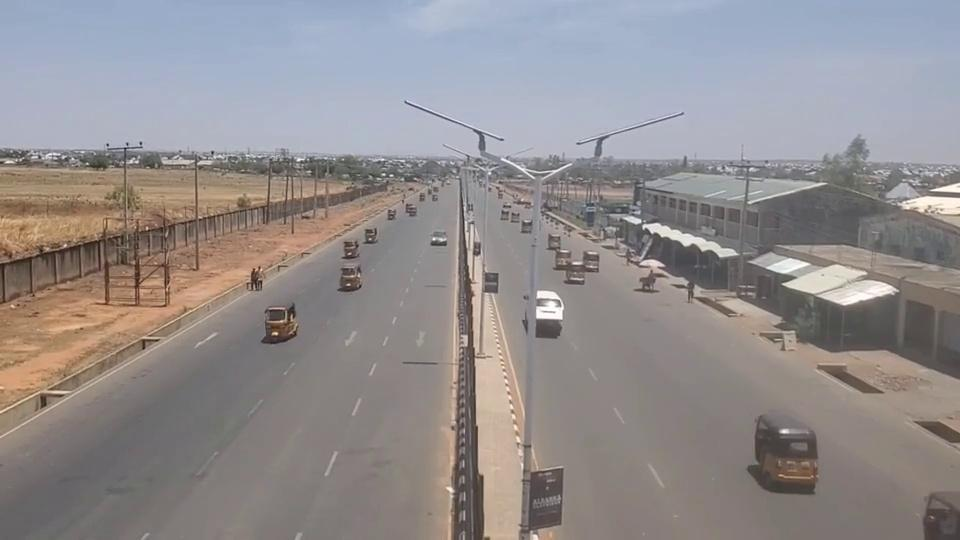bus: (527, 289, 565, 336)
car: (430, 230, 448, 246)
keke: (753, 409, 819, 491), (923, 493, 960, 540), (263, 302, 298, 341), (521, 218, 533, 232)
